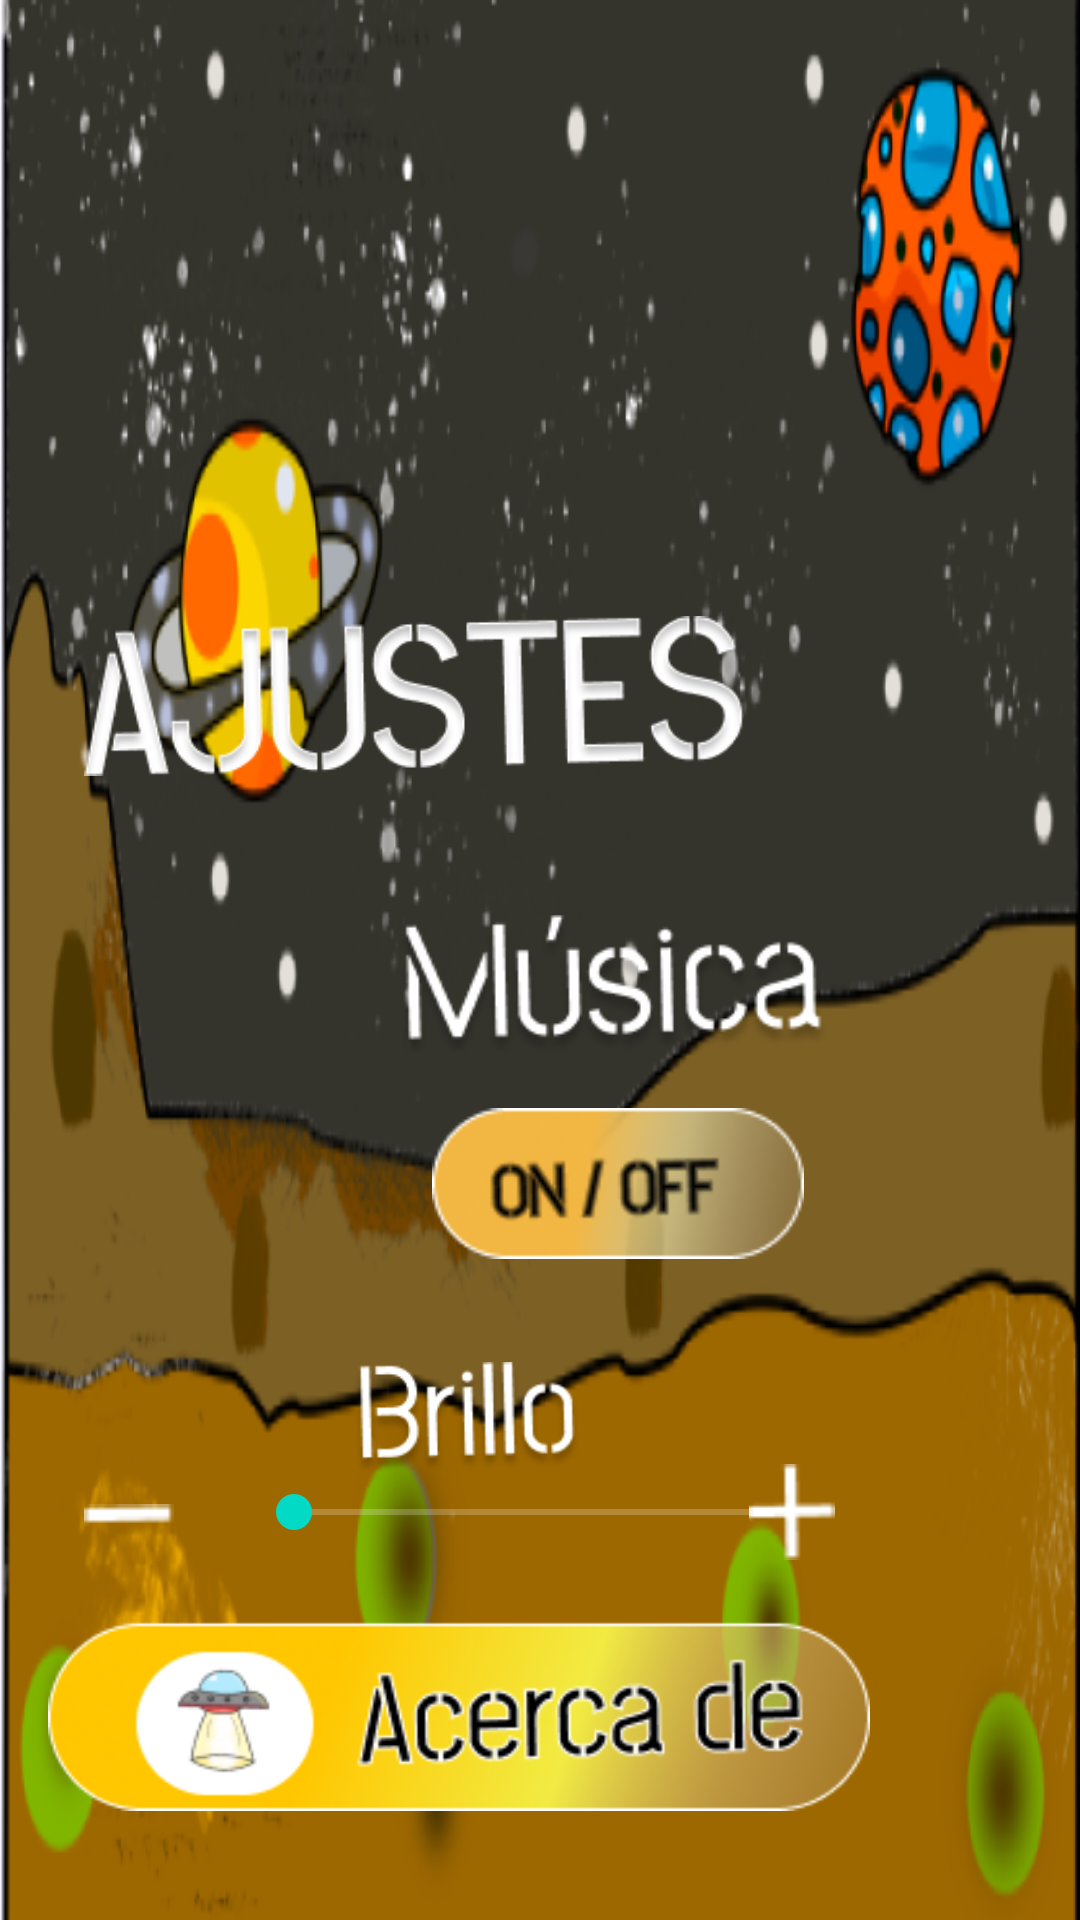

Named icons in this screenshot (1080×1920) and their bounding boxes, {"x1": x1, "y1": y1, "x2": x2, "y2": y2}:
mas: {"x1": 744, "y1": 1464, "x2": 835, "y2": 1560}
menos: {"x1": 84, "y1": 1480, "x2": 174, "y2": 1560}
